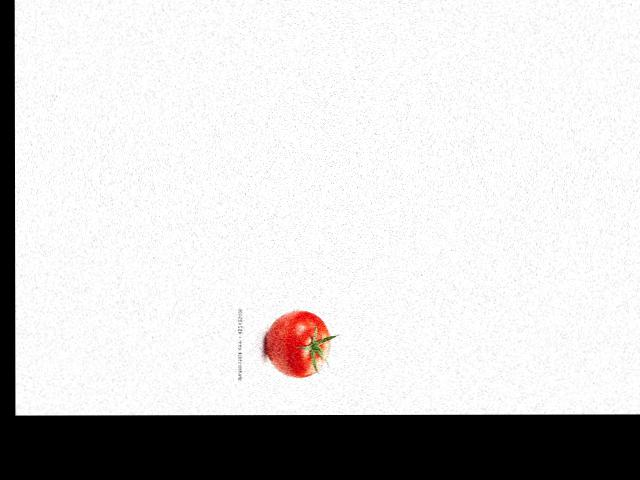tomato: (265, 310, 330, 376)
